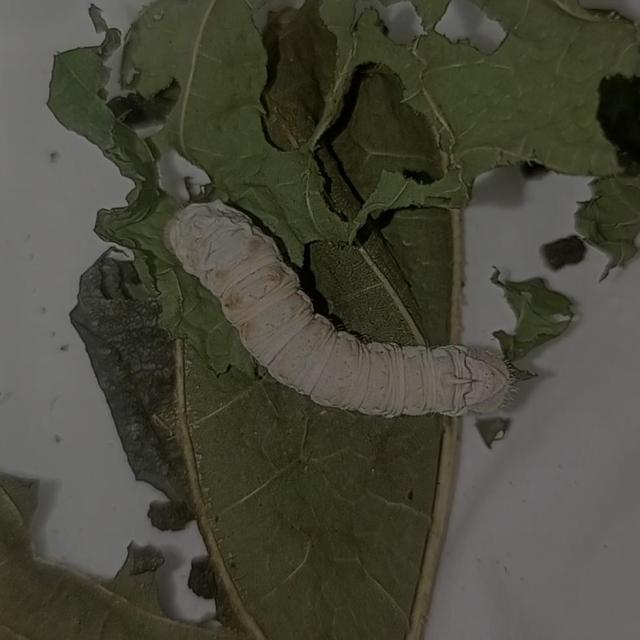Healthy: (159, 185, 517, 425)
